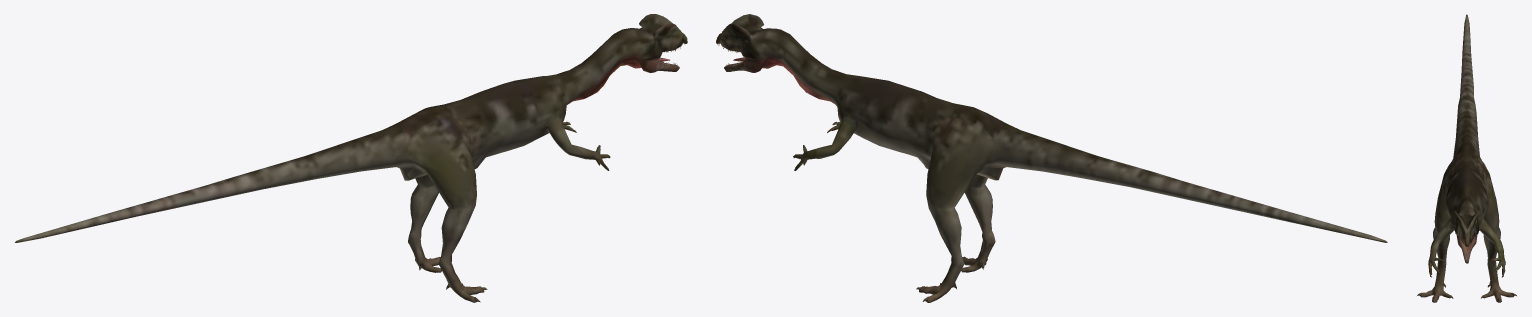
The model's file is nature-dilophosaurus.glb.
The picture shows the model from 3 angles, left to right: view 1: azimuth 30°, elevation 25°; view 2: azimuth 150°, elevation 25°; view 3: azimuth 270°, elevation 25°; orthographic projection. The views are drawn at different scales.
Visible parts, largest first — view 1: Animal; view 2: Animal; view 3: Animal.
Boxes of the visible parts, x1,y1,x2,y2 form: Animal: (15, 14, 687, 302); Animal: (716, 14, 1387, 302); Animal: (1417, 14, 1516, 302).
Size of the model in its own units: 3.2 by 0.9589 by 0.5231.
3 materials, 2 textured.
